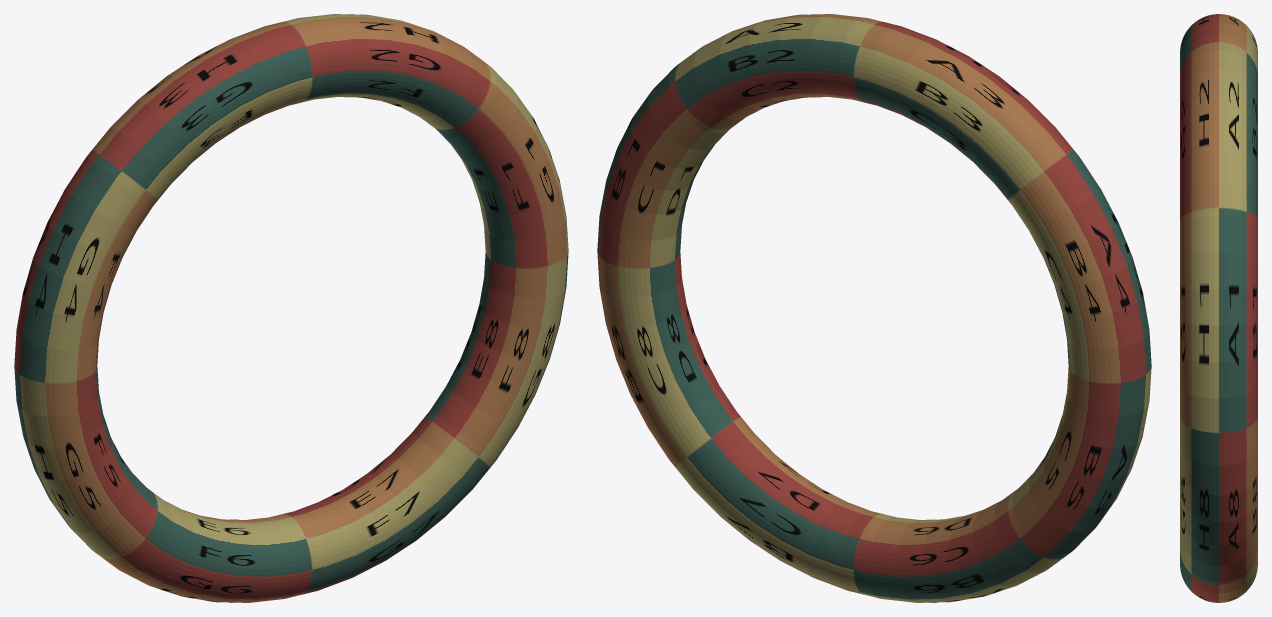
File: texture_torus_R23_r7.glb
3 renders of one model, left to right at view 1: azimuth 30°, elevation 25°; view 2: azimuth 150°, elevation 25°; view 3: azimuth 270°, elevation 25°, orthographic. The views are drawn at different scales.
Visible parts, largest first — view 1: world; view 2: world; view 3: world.
Part boxes in pixels (x1=…): world: x1=14, y1=14, x2=568, y2=602; world: x1=597, y1=14, x2=1151, y2=602; world: x1=1180, y1=14, x2=1257, y2=602.
Bounding box in the file's own units: 29.2 × 29.14 × 3.86.
1 material, 1 textured.
